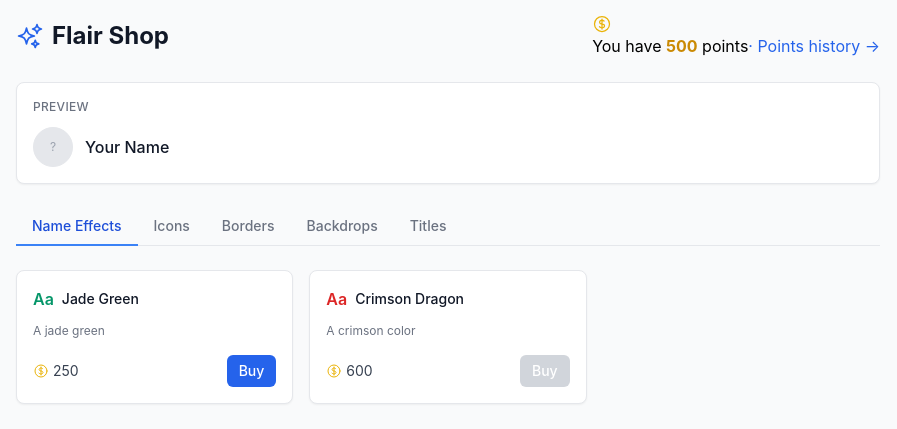
Test case: Shop page › switches to Icons tab and shows icon items
The image size is (897, 429).
Click the button "Icons" at (172, 227), box left=138, top=208, right=206, bottom=246
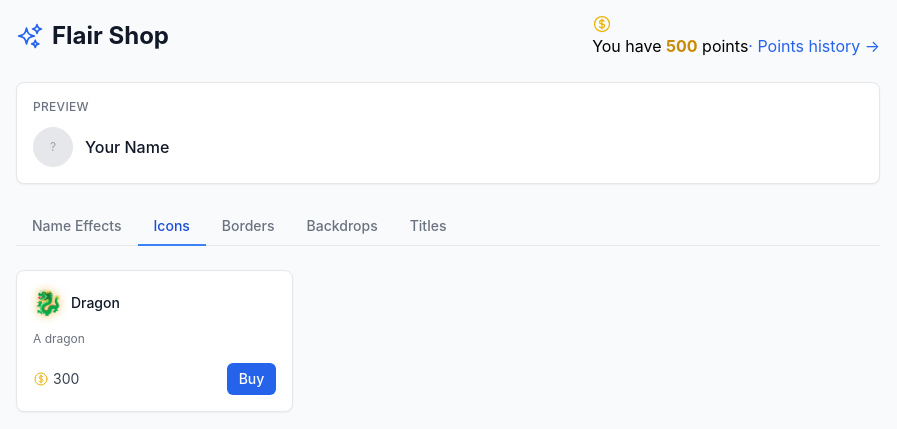
Expected: the text "Dragon" is shown, left=71, top=293, right=120, bottom=313
Expected: the text "Jade Green" is gone
